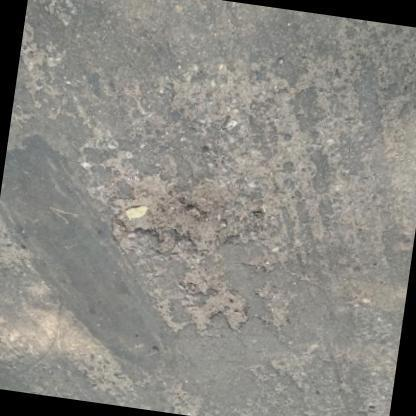pothole: (116, 164, 266, 250), (162, 282, 244, 336)
